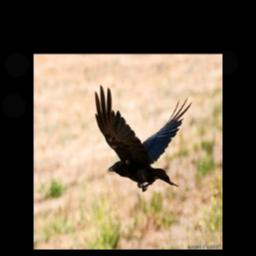Crow: (92, 83, 193, 192)
